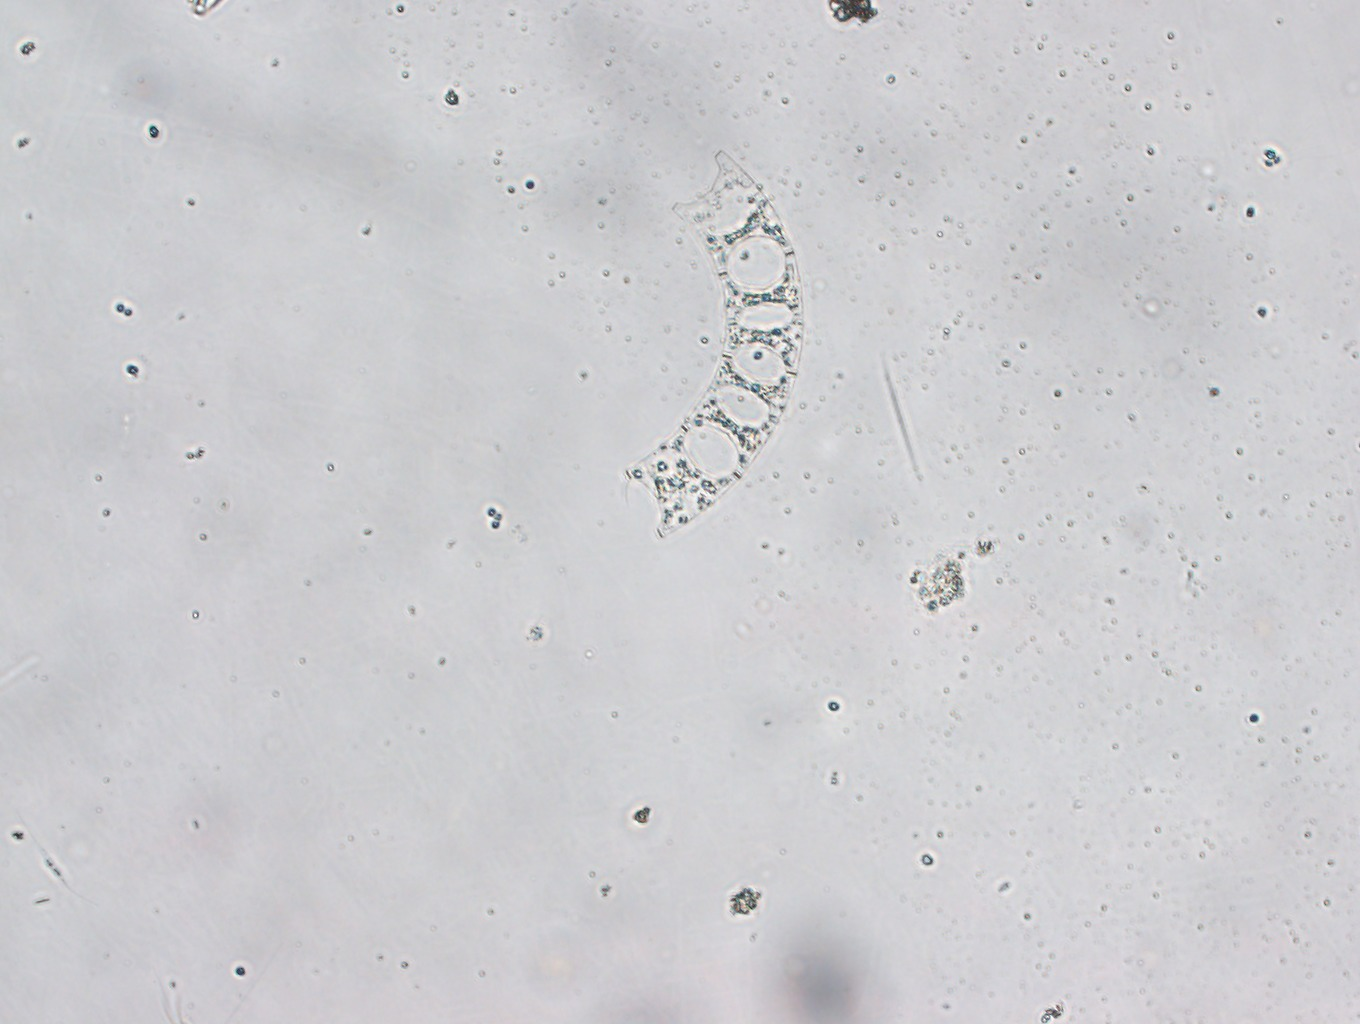eucampia: (613, 153, 811, 544)
